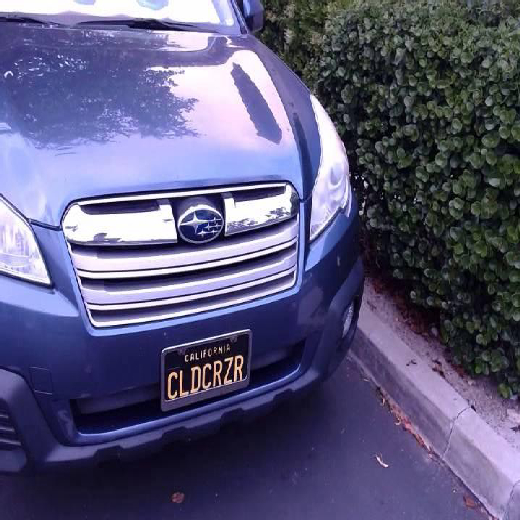license_plate: (158, 330, 252, 411)
vehicle: (0, 0, 369, 481)
